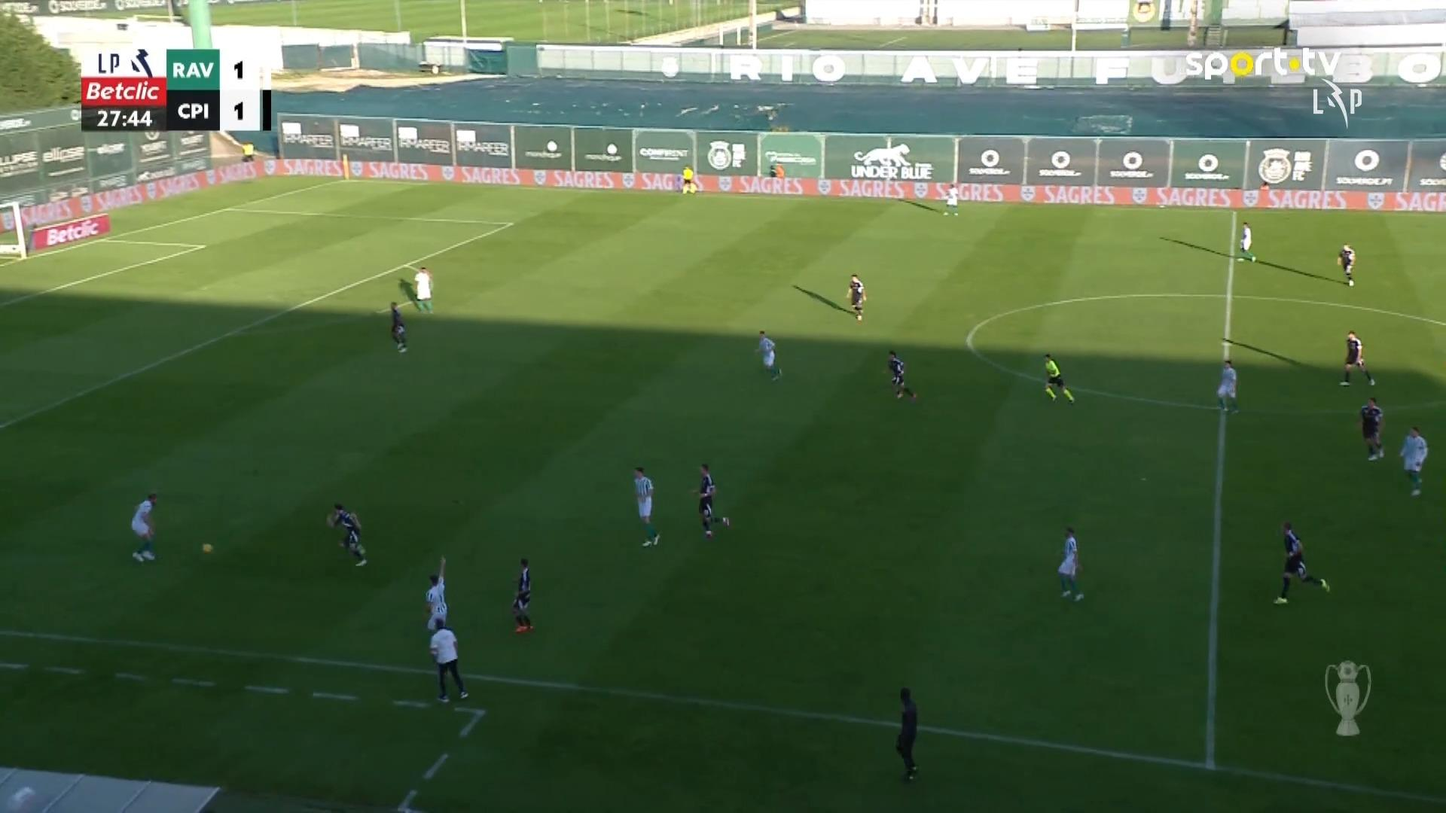ball: (202, 544, 212, 553)
player: (1273, 519, 1330, 604), (691, 462, 730, 537), (326, 502, 368, 567), (632, 466, 660, 547), (1056, 525, 1084, 601), (1399, 425, 1428, 496), (1338, 330, 1374, 385), (130, 491, 157, 562), (511, 557, 534, 632), (425, 556, 447, 632), (1359, 396, 1384, 461), (886, 349, 917, 399), (754, 329, 781, 381), (1216, 358, 1239, 413), (845, 273, 865, 321), (389, 300, 407, 352), (413, 266, 433, 312), (1338, 243, 1356, 286), (1237, 221, 1255, 261), (942, 182, 959, 216)
referee: (428, 617, 468, 702), (895, 686, 918, 780), (1042, 353, 1075, 403), (680, 164, 696, 194)
